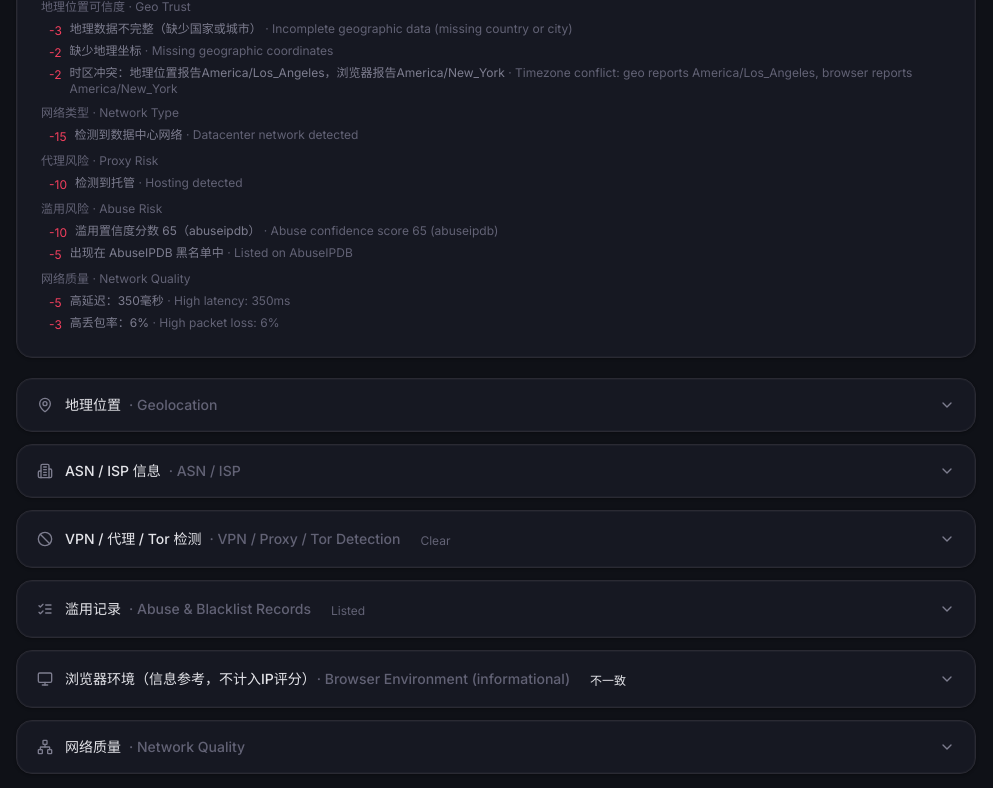
Test: IpCheckPage › toggles expandable sections open/closed on click
(page scrolled)
Click to expand
Click the button "地理位置· Geolocation" at coordinates (93, 404), box [17,379,975,431]
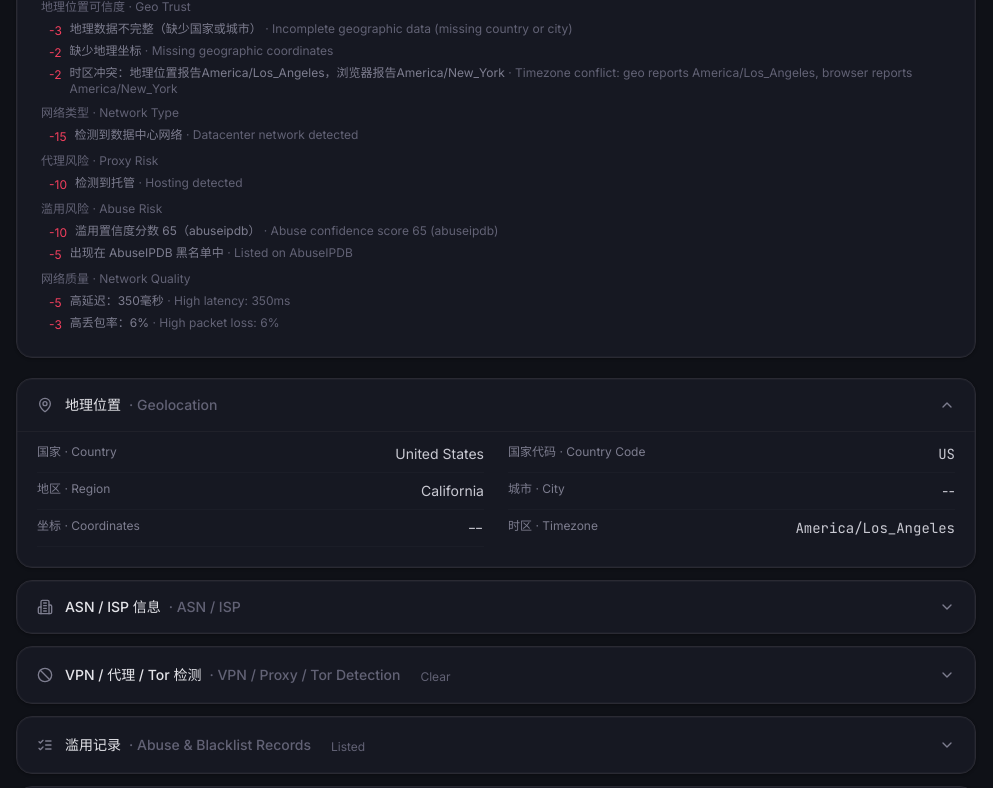
Now the button "地理位置· Geolocation" is expanded
Click again to collapse
Click the button "地理位置· Geolocation" at coordinates (93, 404), box [17,379,975,431]
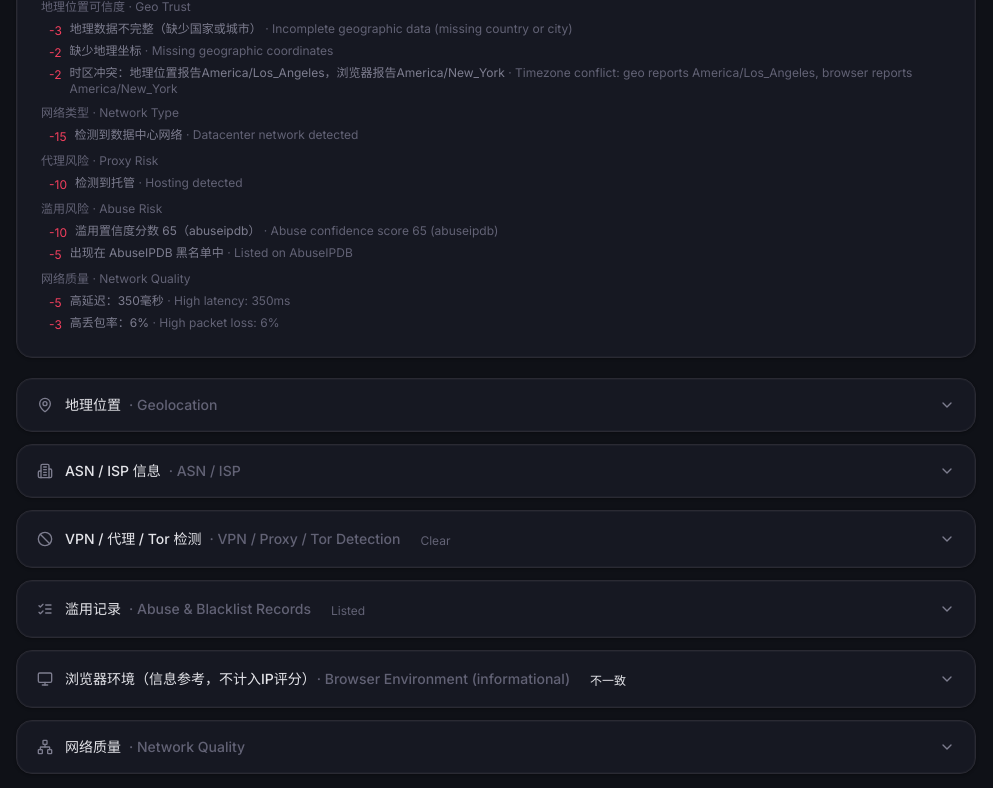
Now the button "地理位置· Geolocation" is collapsed, box [17,379,975,431]
